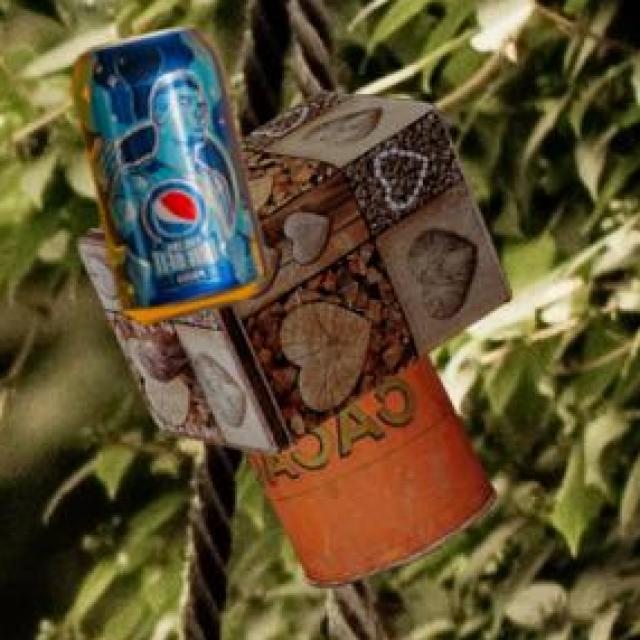logam: (82, 88, 514, 451), (75, 21, 274, 321), (247, 350, 500, 585)
